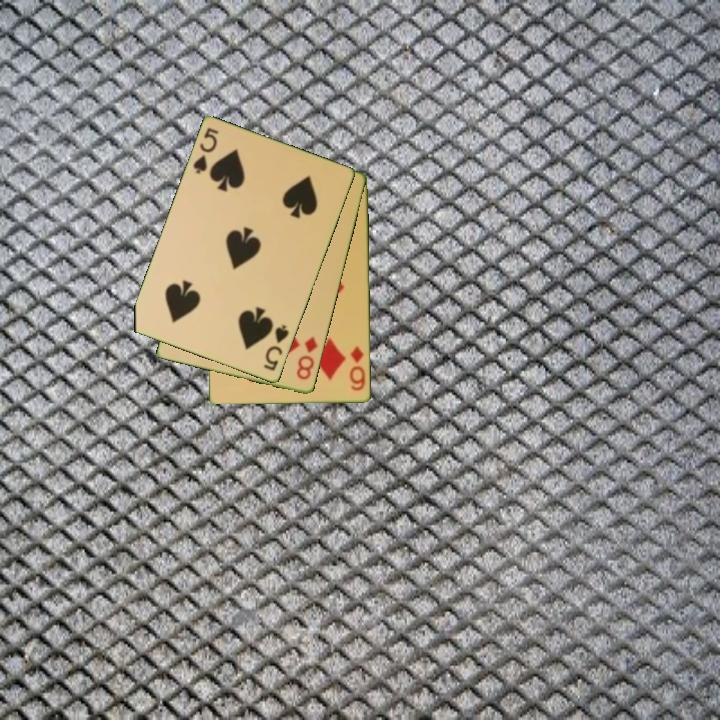5s: (190, 124, 222, 177), (260, 322, 292, 374)
6d: (347, 343, 368, 394)
8d: (293, 333, 321, 383)
